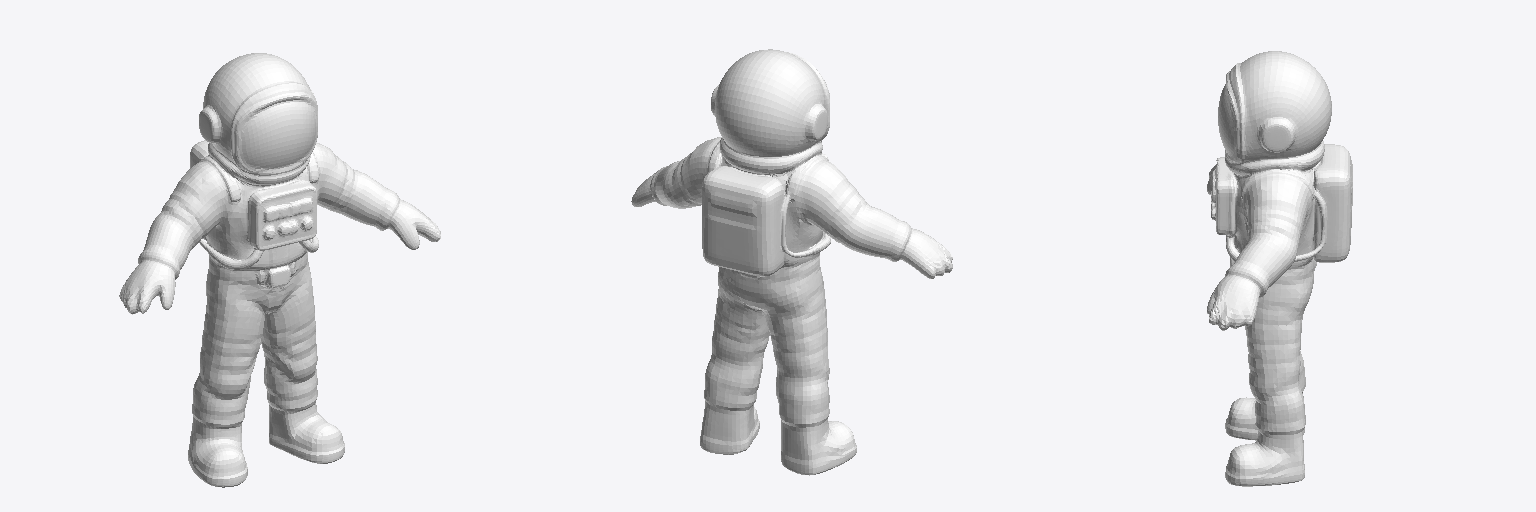
Rendered from astronaut.obj.
The picture shows the model from 3 angles: view 1: azimuth 30°, elevation 25°; view 2: azimuth 150°, elevation 25°; view 3: azimuth 270°, elevation 25°; orthographic projection.
Visible parts, largest first — view 1: obj1; view 2: obj1; view 3: obj1.
Part boxes in pixels (left/top/right/bottom): obj1: left=119, top=53, right=440, bottom=487; obj1: left=631, top=49, right=952, bottom=475; obj1: left=1207, top=51, right=1352, bottom=486.
Size of the model in its own units: 1.56 by 1.91 by 0.6321.